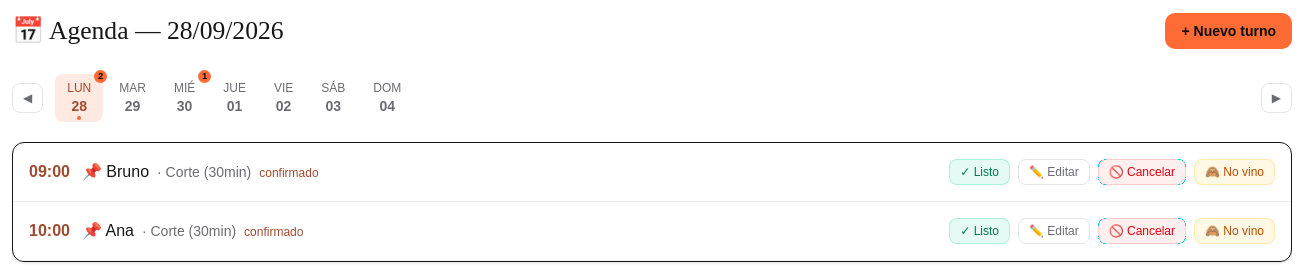
Test case: TurnosAgenda (#189 · agenda navegable) › click en otro día lista sus turnos y 'Hoy' vuelve al día actual
Expected: the text "📌 Ana" is shown, [82,222,134,239]
Expected: the text "📌 Bruno" is shown, [82,163,149,180]
Click the button "MIÉ 30 1". click: (185, 98)
box: [162,74,207,122]
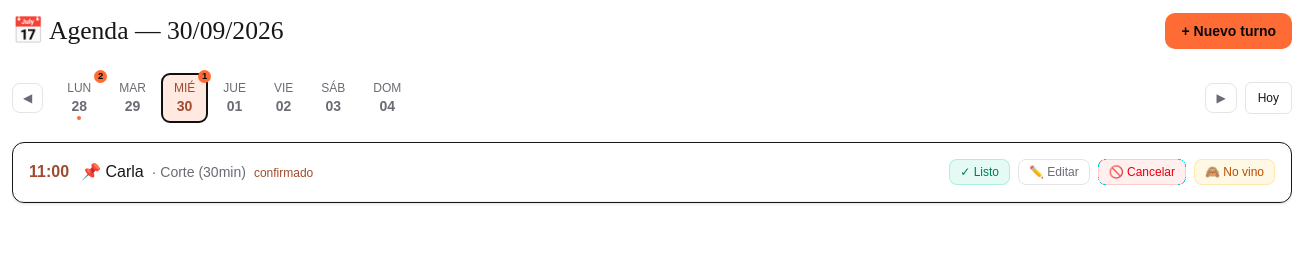
Now the text "📌 Carla" is shown, box [81,163,144,180]
Now the text "Ana" is gone
Now the heading "📅 Agenda — 30/09/2026" is shown, box [12,12,284,50]
Click the button "Hoy". click: (1268, 98)
box: [1245,82,1292,114]
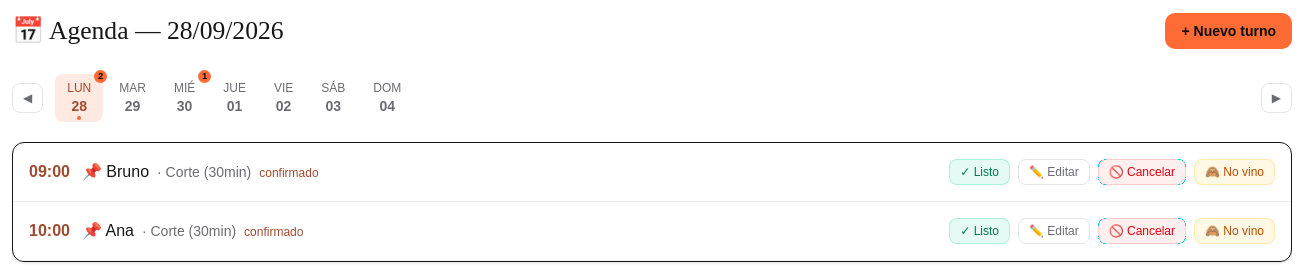
Now the text "📌 Ana" is shown, box [82,222,134,239]
Now the text "Carla" is gone
